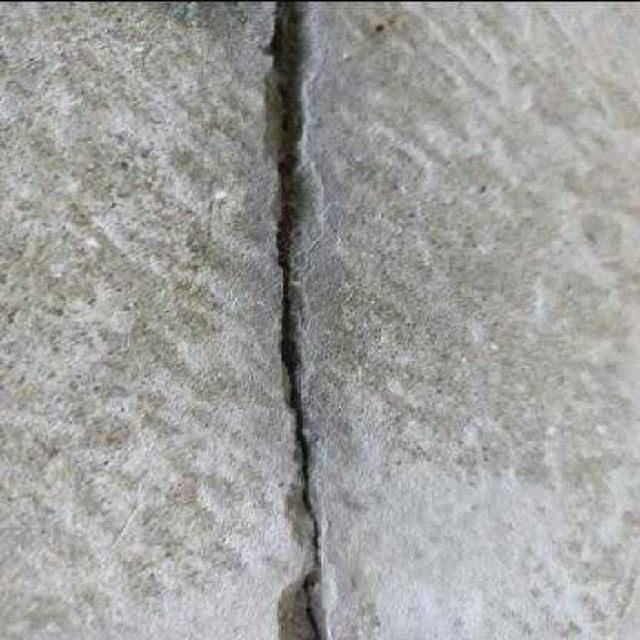D00: (256, 0, 340, 640)
